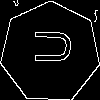U: (25, 27, 71, 65)
